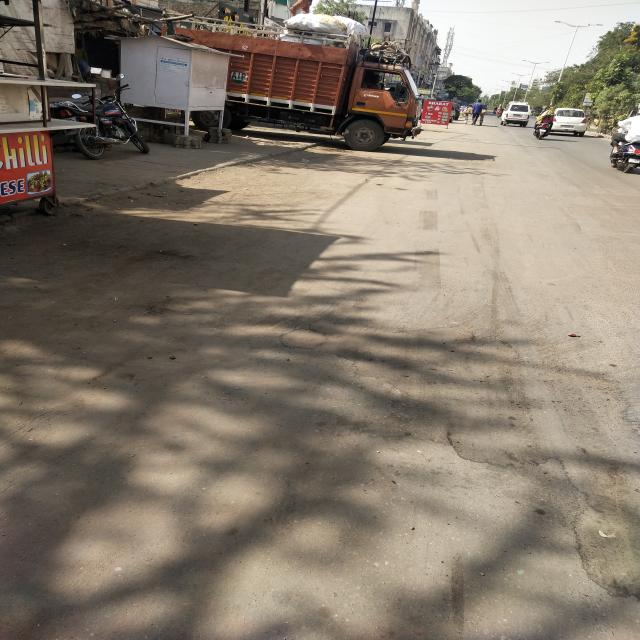Bike: (66, 82, 140, 160), (607, 125, 640, 179), (533, 111, 562, 135), (495, 106, 505, 117)
Car: (552, 102, 590, 139), (500, 99, 538, 133), (436, 105, 454, 129), (447, 98, 462, 122)
Truck: (140, 30, 431, 144)
